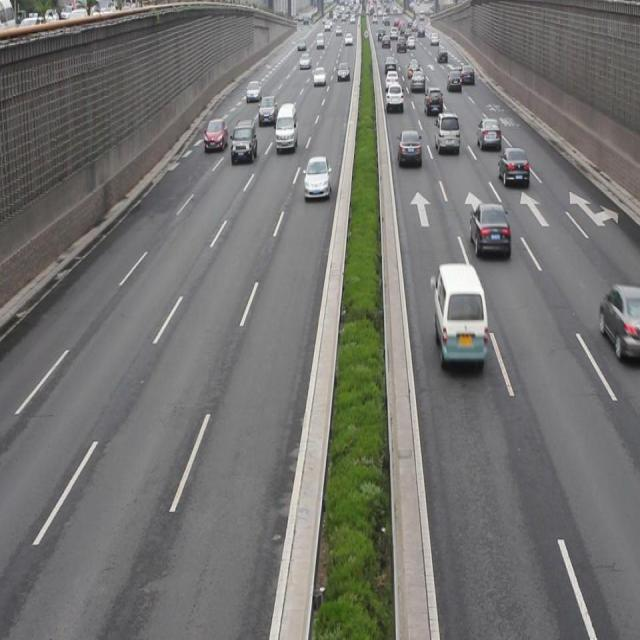car: (598, 282, 640, 359), (470, 202, 509, 258), (497, 146, 528, 185), (304, 155, 330, 199), (231, 119, 256, 164), (436, 111, 460, 154), (396, 129, 422, 168), (476, 116, 500, 152), (203, 116, 227, 151)
truck: (433, 263, 485, 363), (274, 102, 297, 152)
